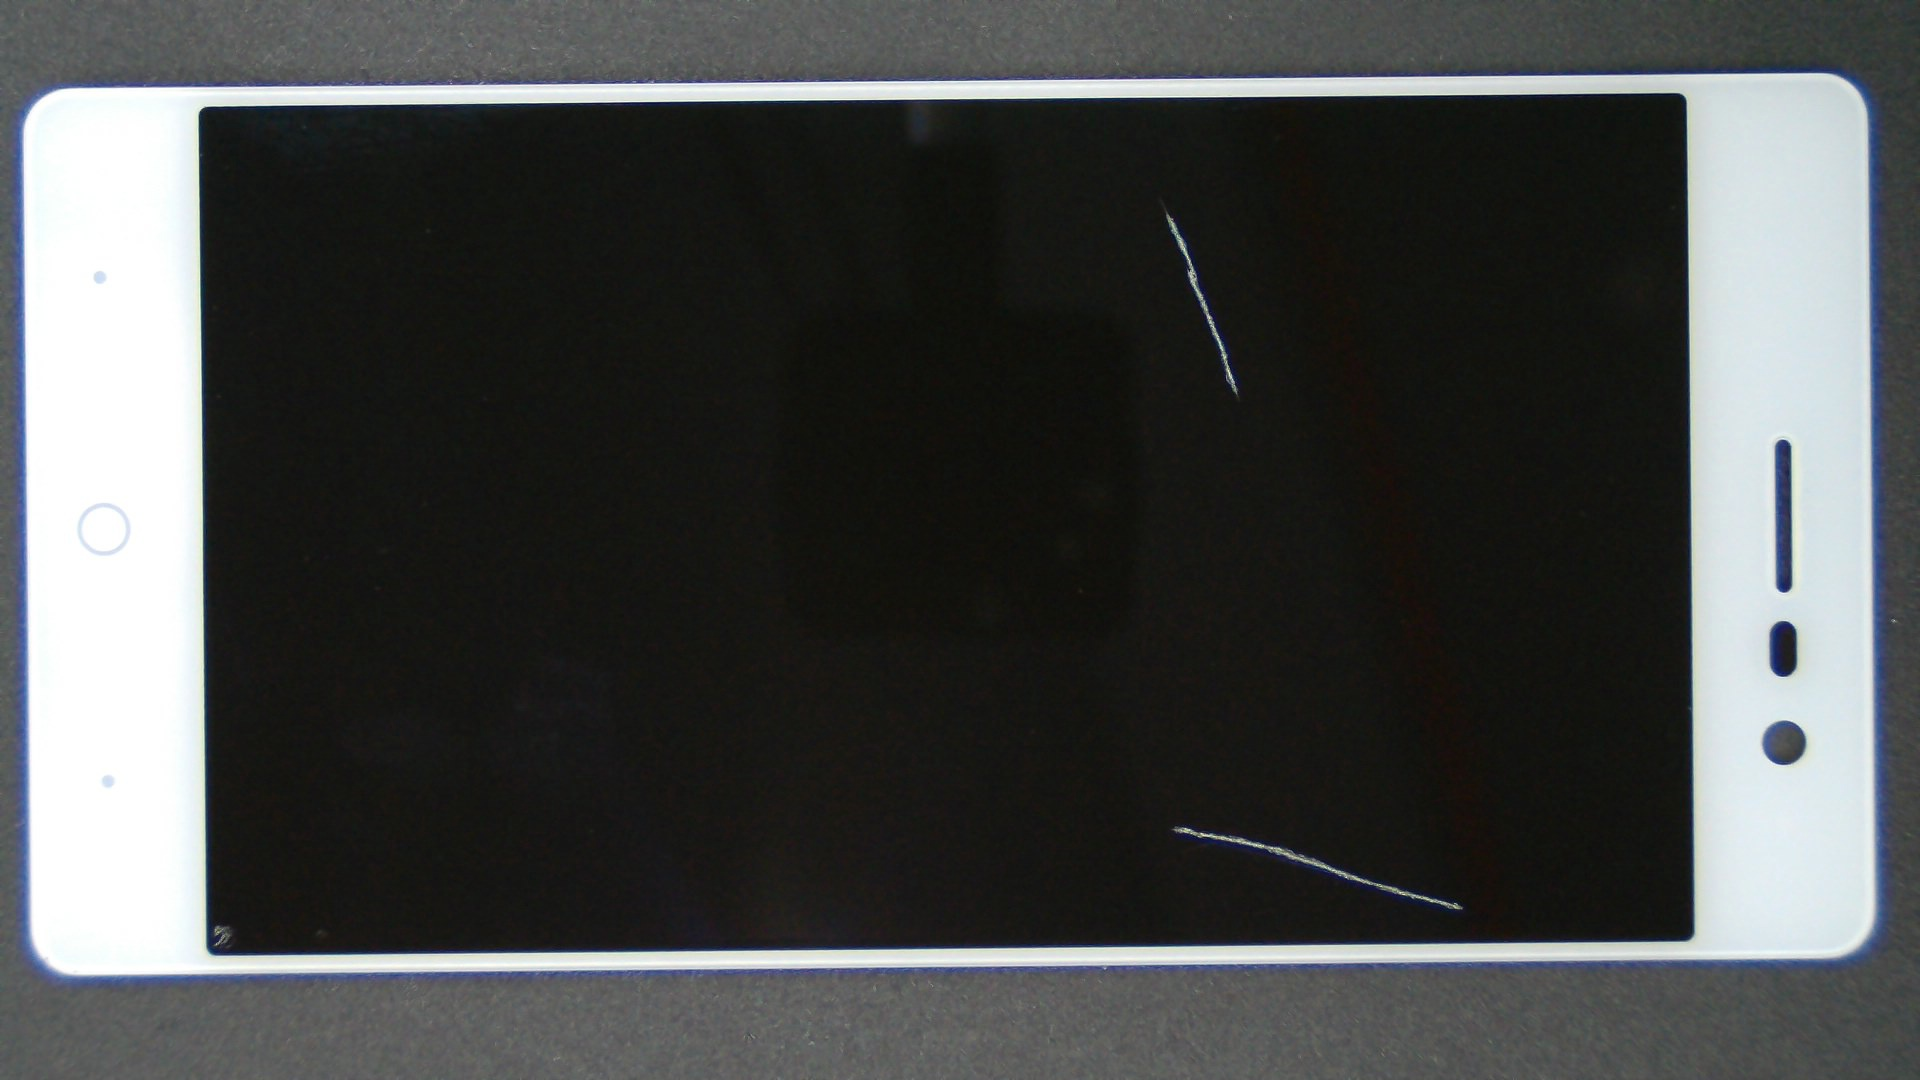oil: (588, 411, 1762, 1080), (582, 96, 1745, 303), (109, 462, 327, 1080)
